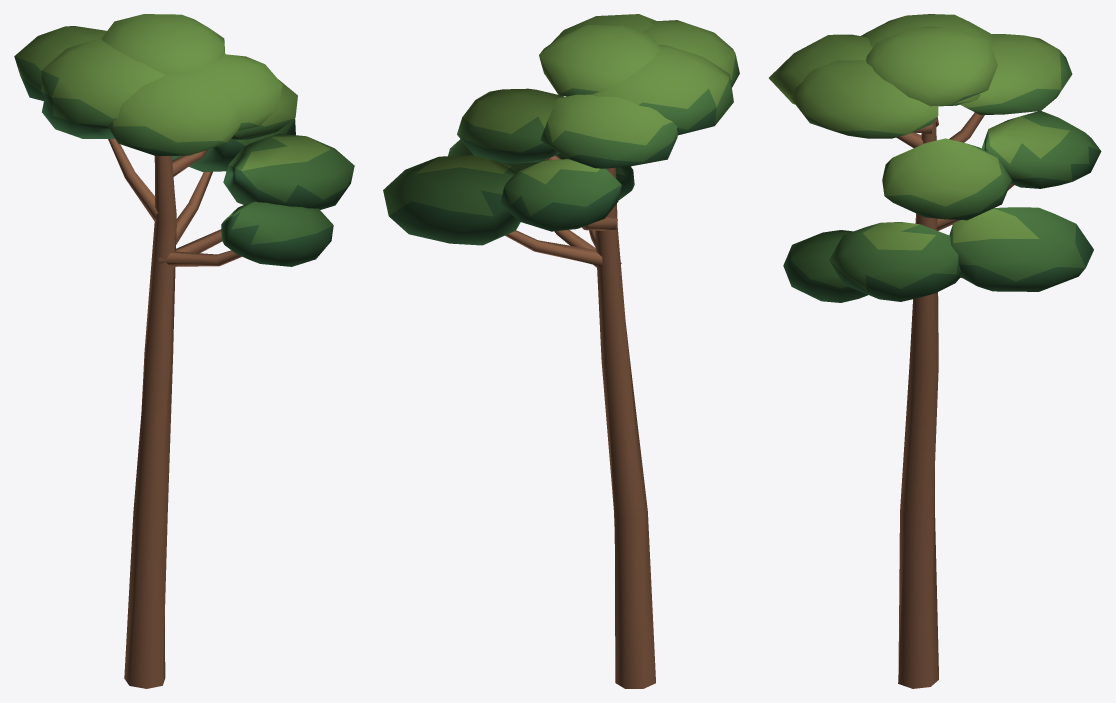
File: PineB_LOD.glb
3 views of the same model, side by side, from view 1: azimuth 30°, elevation 25°; view 2: azimuth 150°, elevation 25°; view 3: azimuth 270°, elevation 25° (orthographic).
Visible parts, largest first — view 1: PineB_LOD.needleLight, PineB_LOD.bark, PineB_LOD.needleMid, PineB_LOD.needleDark; view 2: PineB_LOD.needleLight, PineB_LOD.bark, PineB_LOD.needleMid, PineB_LOD.needleDark; view 3: PineB_LOD.needleLight, PineB_LOD.needleMid, PineB_LOD.bark, PineB_LOD.needleDark.
Boxes of the visible parts, x1=… form: PineB_LOD.needleLight: x1=14, y1=14, x2=330, y2=170; PineB_LOD.bark: x1=108, y1=139, x2=241, y2=688; PineB_LOD.needleMid: x1=14, y1=56, x2=354, y2=244; PineB_LOD.needleDark: x1=20, y1=75, x2=350, y2=266; PineB_LOD.needleLight: x1=415, y1=14, x2=735, y2=184; PineB_LOD.bark: x1=505, y1=155, x2=655, y2=688; PineB_LOD.needleMid: x1=383, y1=54, x2=739, y2=216; PineB_LOD.needleDark: x1=389, y1=108, x2=716, y2=245; PineB_LOD.needleLight: x1=769, y1=14, x2=1069, y2=250; PineB_LOD.needleMid: x1=791, y1=50, x2=1100, y2=290; PineB_LOD.bark: x1=896, y1=112, x2=1013, y2=688; PineB_LOD.needleDark: x1=783, y1=112, x2=1101, y2=302.
Size of the model in its own units: 15.48 by 33.93 by 15.63.
